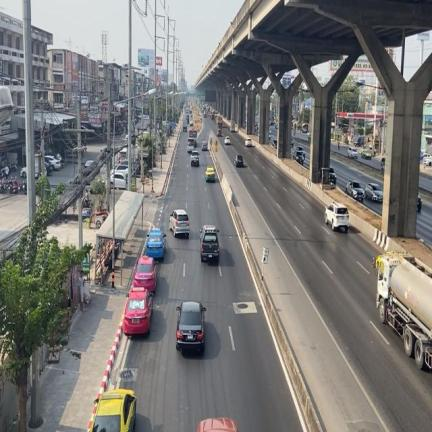car: (176, 301, 205, 352), (325, 202, 348, 232), (200, 225, 218, 261), (169, 209, 189, 237), (345, 180, 364, 201), (365, 183, 382, 201)
motorbike: (9, 179, 18, 193), (19, 183, 26, 194)
taxi: (90, 389, 136, 431), (124, 287, 153, 334), (133, 255, 157, 292), (144, 228, 165, 259), (205, 165, 215, 181)
truck: (374, 252, 431, 369)
